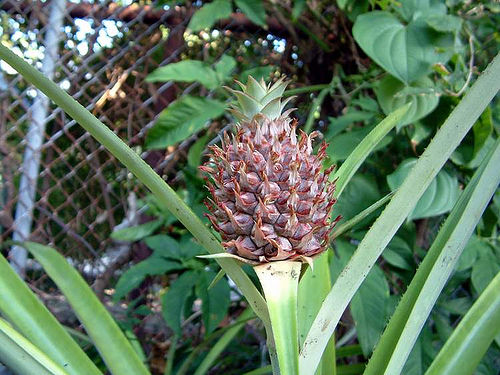pineapple: (200, 75, 343, 261)
